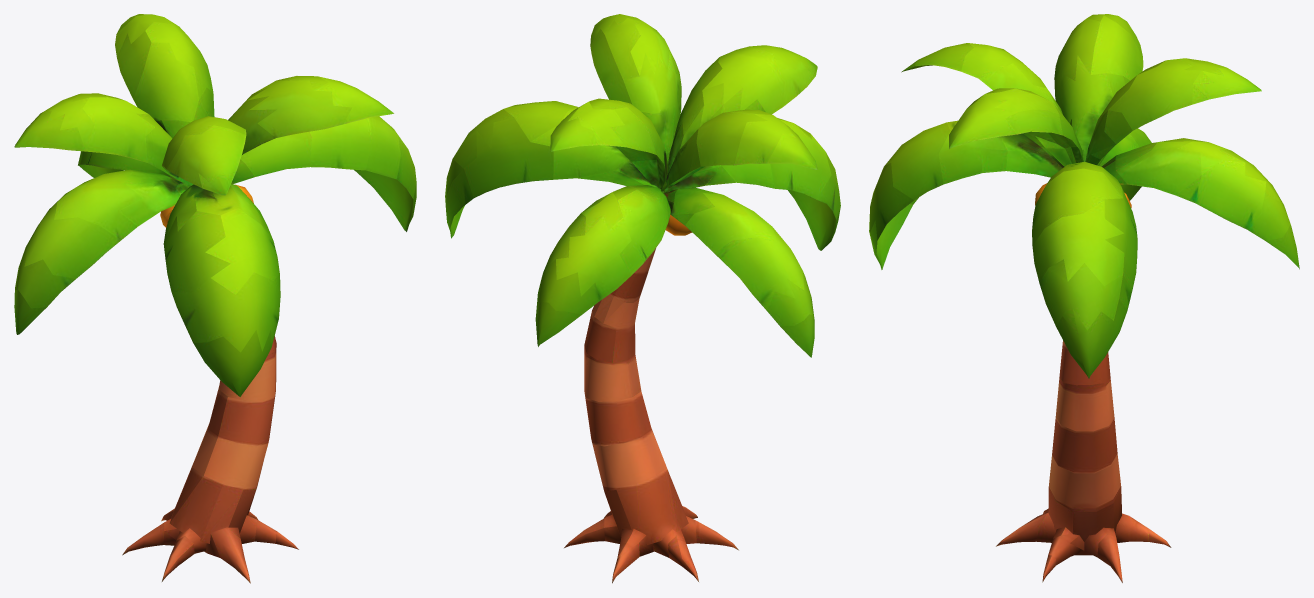
The model's file is palm.glb.
3 views of the same model, side by side, from view 1: azimuth 30°, elevation 25°; view 2: azimuth 150°, elevation 25°; view 3: azimuth 270°, elevation 25° (orthographic).
Size of the model in its own units: 0.8262 by 1 by 0.8008.
Materials: 1 (1 with a texture image).
